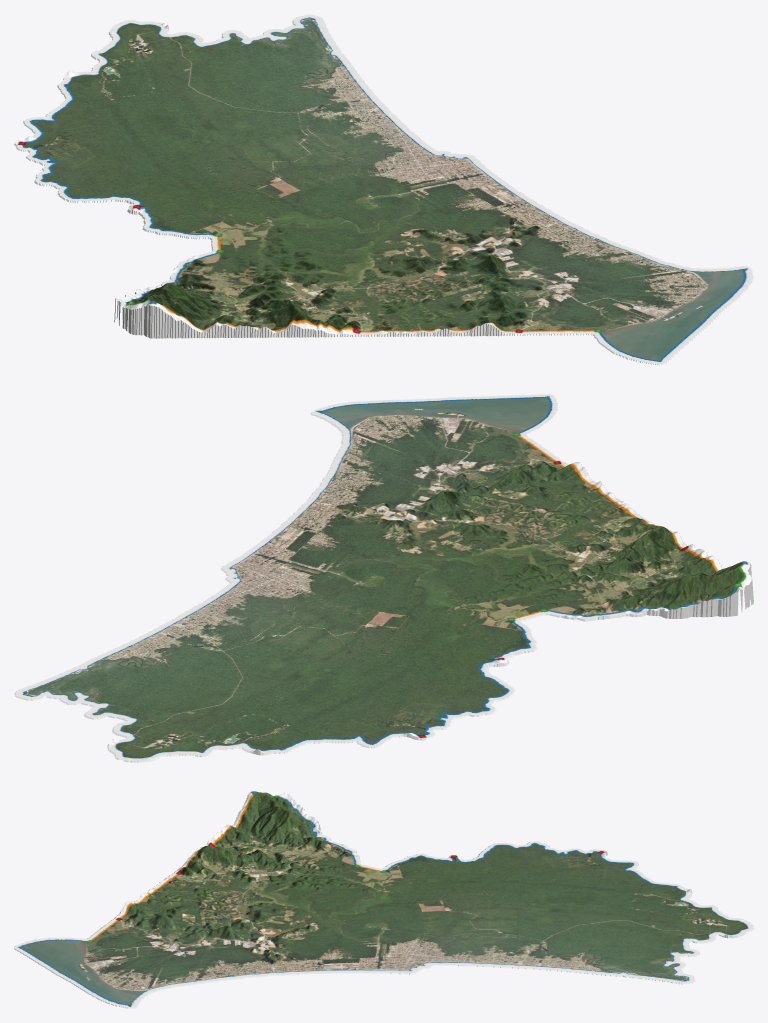
3 views of the same model, one above another, from view 1: azimuth 30°, elevation 25°; view 2: azimuth 150°, elevation 25°; view 3: azimuth 270°, elevation 25° (orthographic). The views are drawn at different scales.
Size of the model in its own units: 0.9996 by 0.0607 by 1.58.
Materials: 1 (1 with a texture image).
